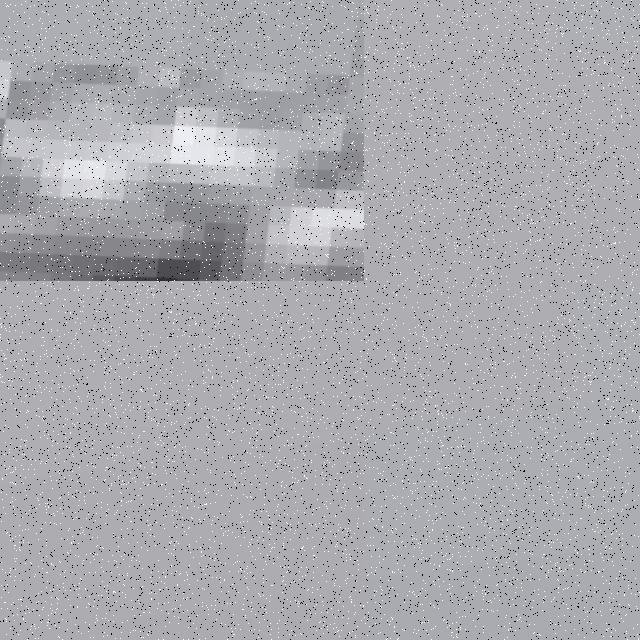drone: (0, 0, 364, 281)
